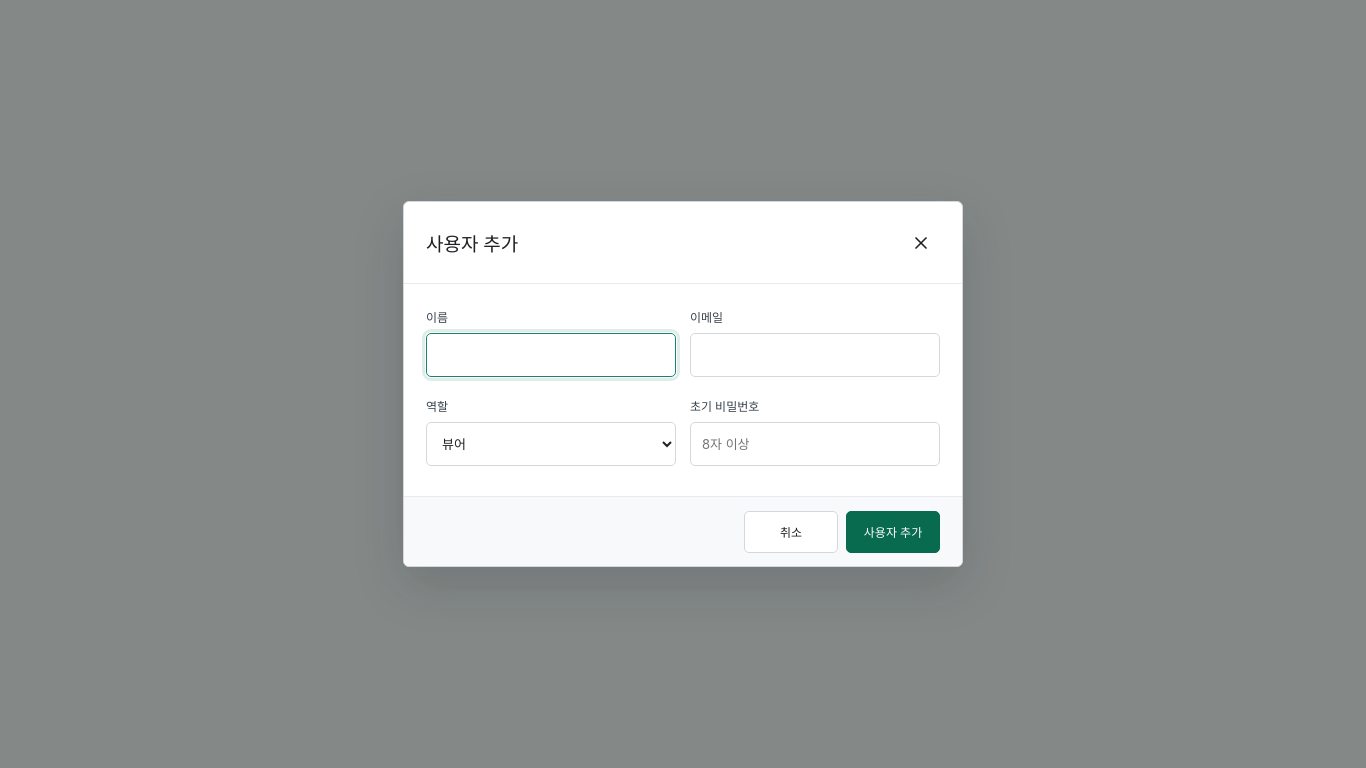
Test: UserCreateDialog › shows the API error when the email already exists
Type "Existing User" into the field labelled "이름".
click(551, 355); type("Existing User")  # box [426, 333, 676, 377]
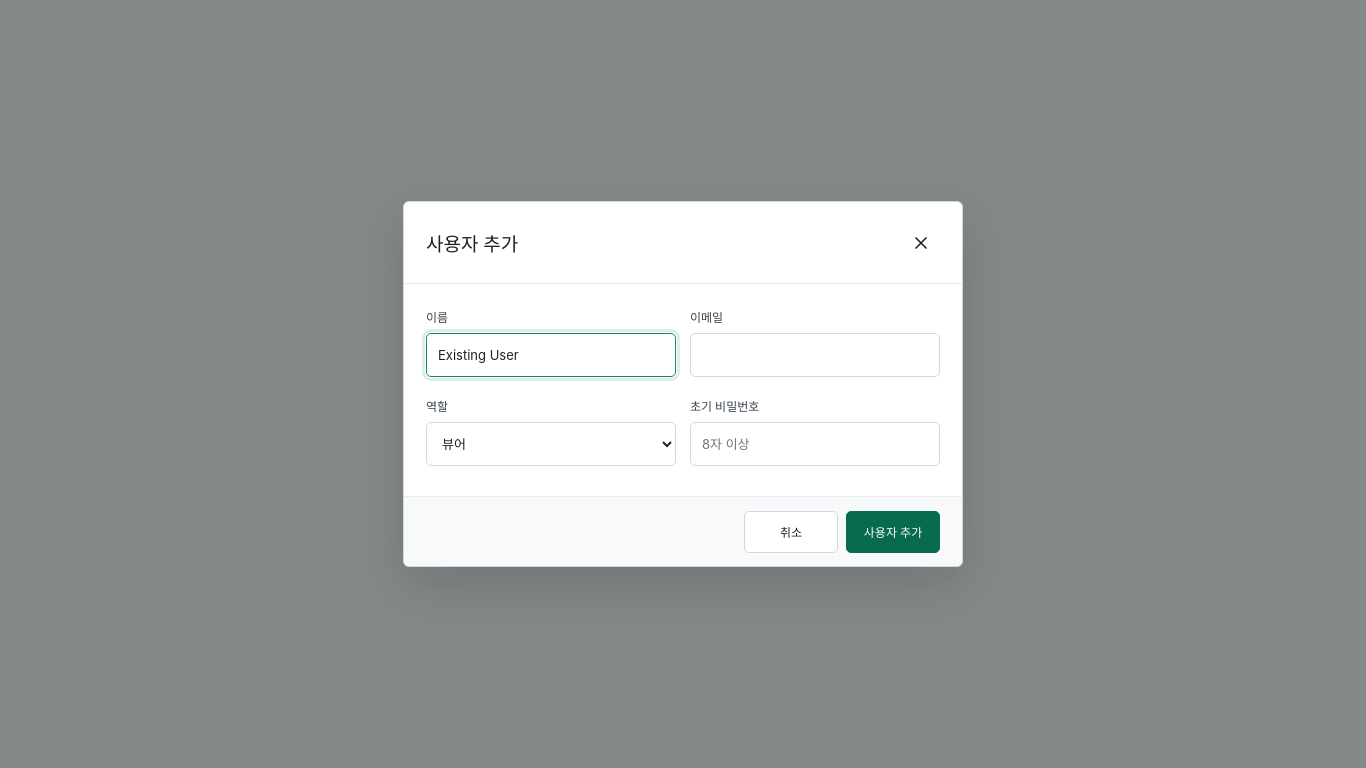
Type "existing@example.com" into the field labelled "이메일".
click(815, 355); type("existing@example.com")  # box [690, 333, 940, 377]
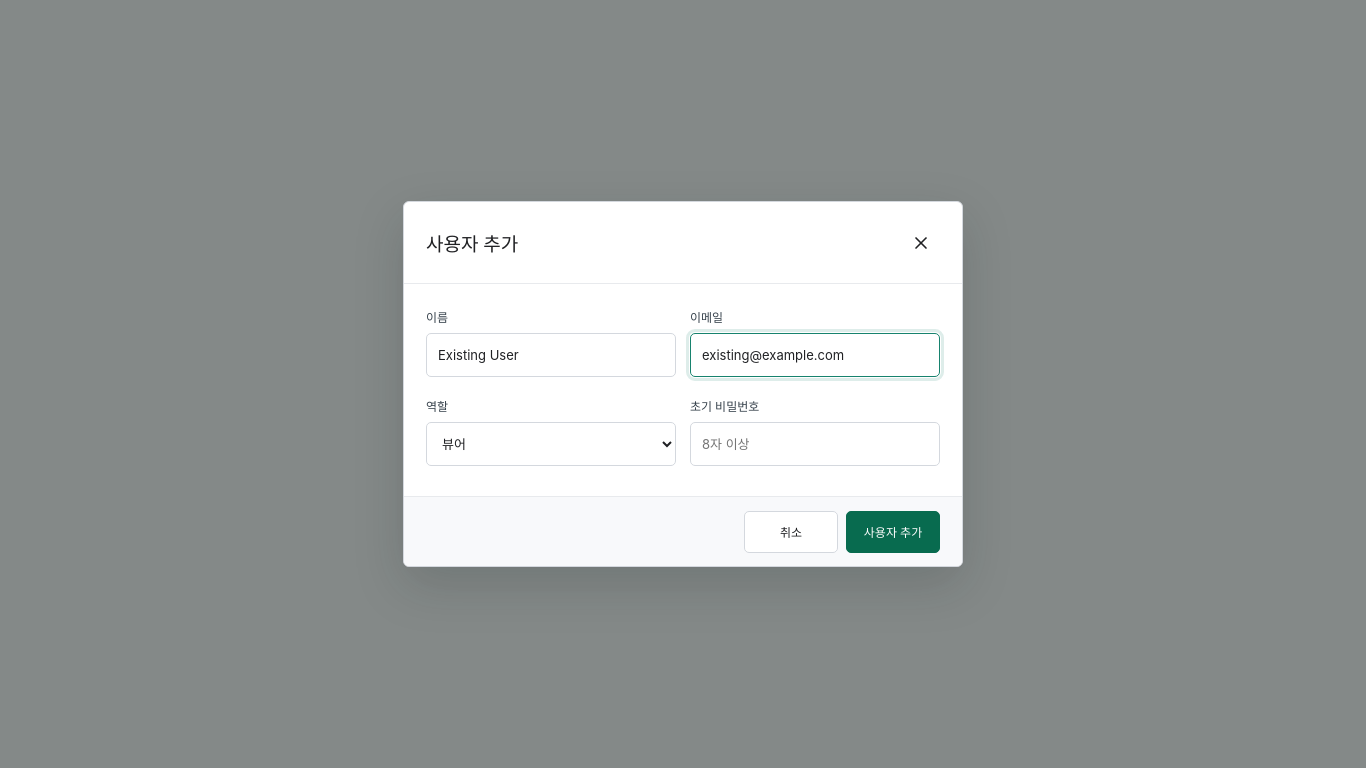
Type "Password123!" into the password field labelled "초기 비밀번호".
click(815, 444); type("Password123!")  # box [690, 422, 940, 466]
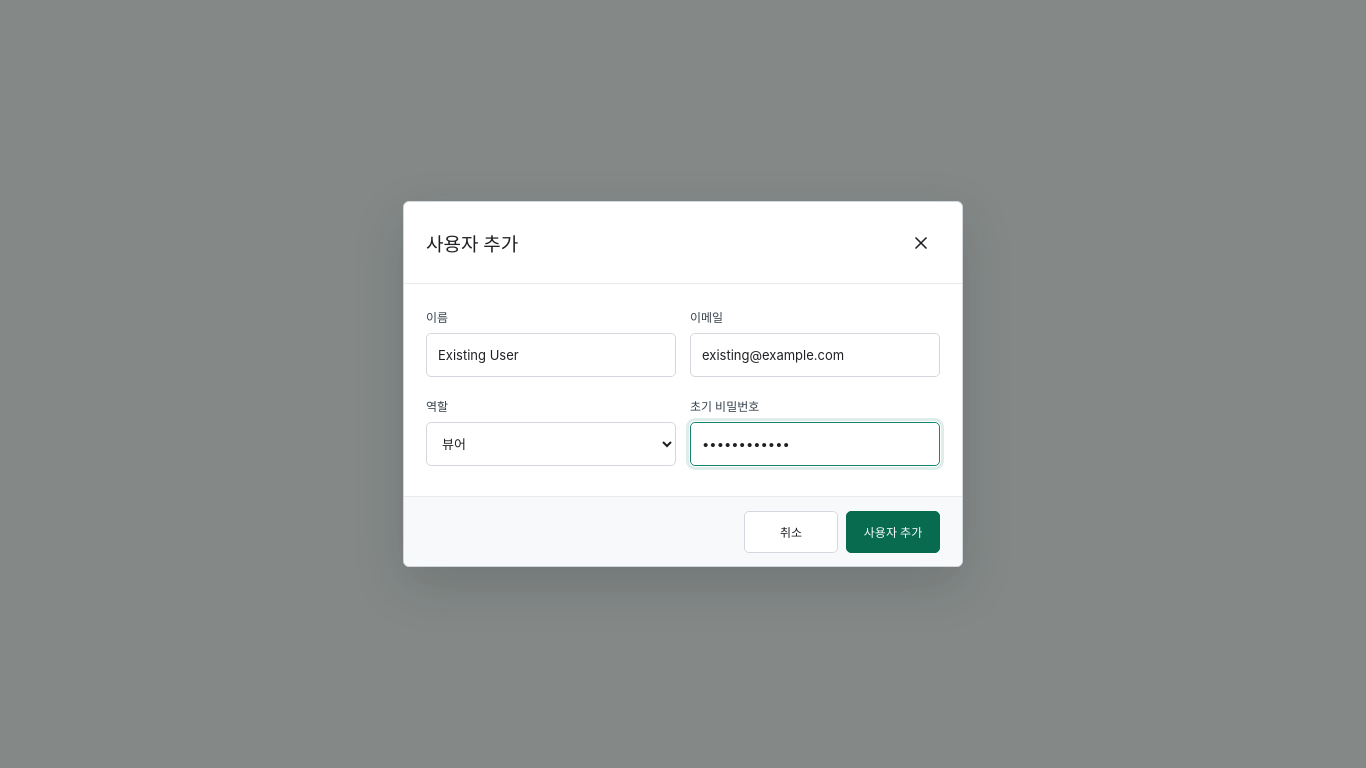
Click the button "사용자 추가".
click(893, 532)  # box [846, 510, 940, 552]
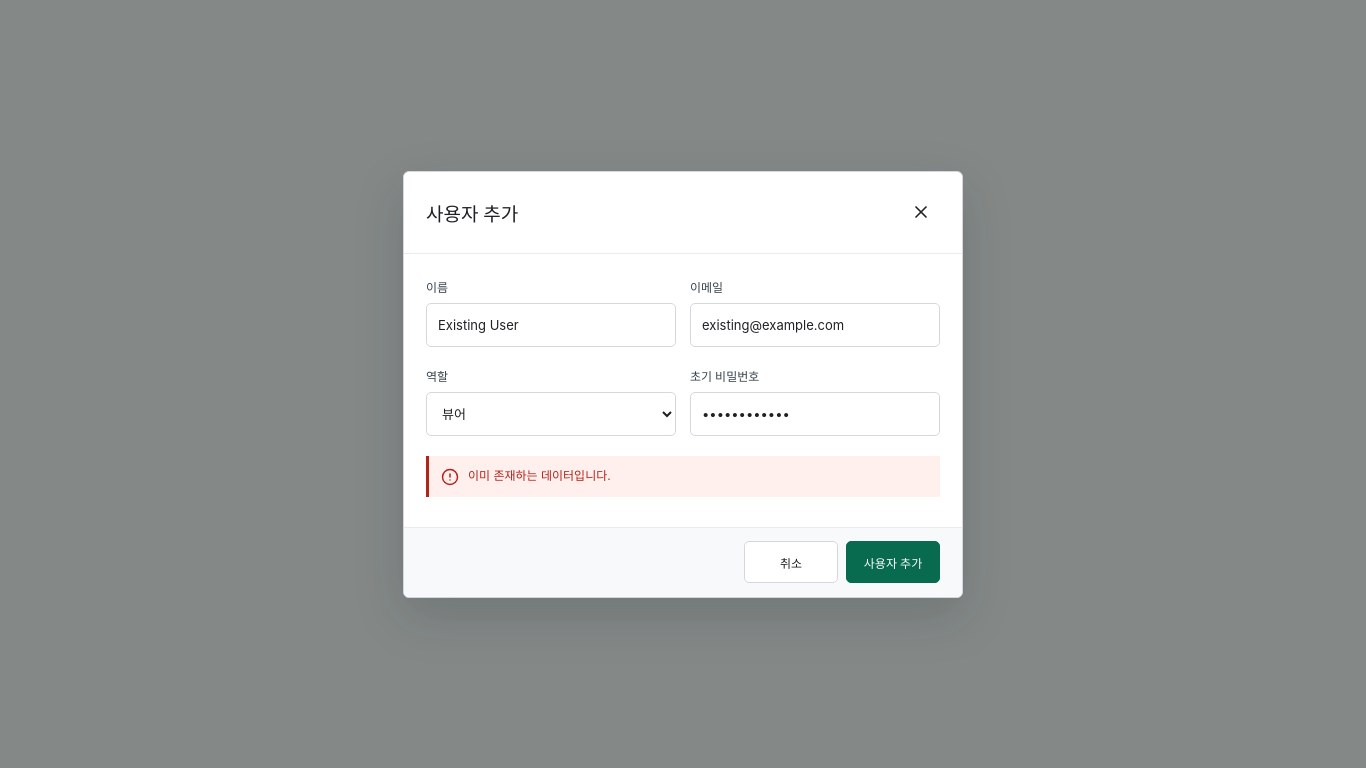
Expected: the message reads "이미 존재하는 데이터입니다.", [468, 468, 611, 482]
